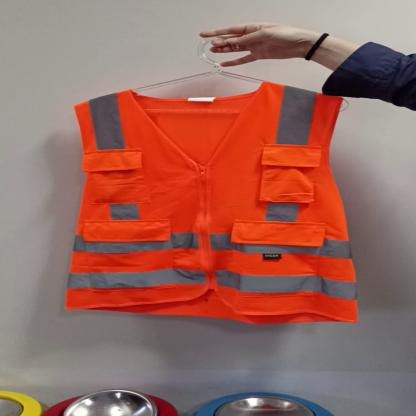colete: (65, 74, 362, 327)
